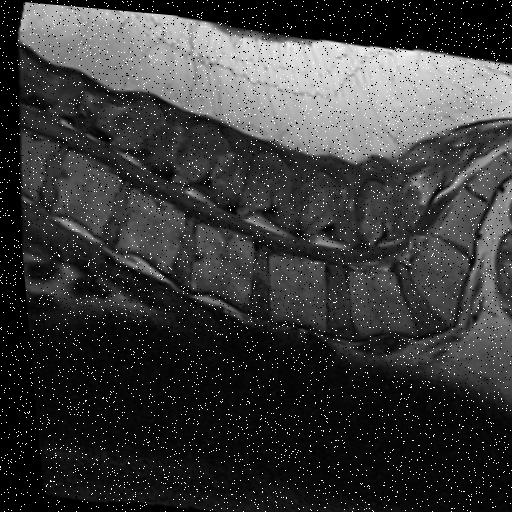L1: (42, 150, 115, 233)
L2: (111, 192, 181, 269)
L3: (188, 220, 248, 300)
L4: (265, 250, 320, 325)
L5: (344, 263, 412, 330)
S1: (405, 228, 465, 317)
